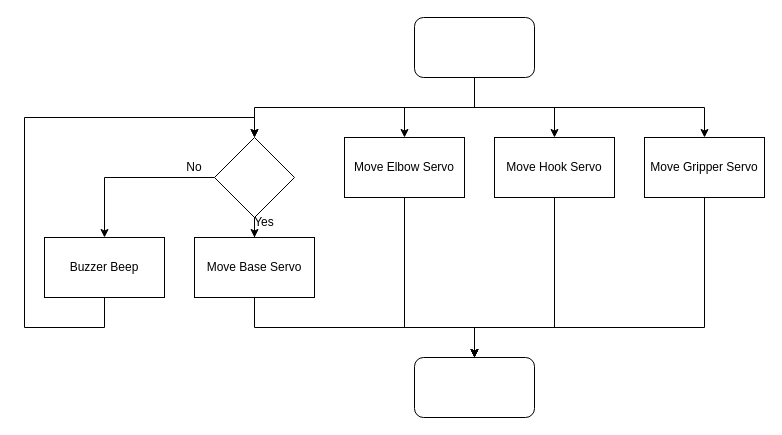
Some shapes in this 782 by 435 pixel diagram are drawn without their labels. Each missing label, with the centre of its shape:
"Base Semaphore" belongs at point 254,177.
"Finish" belongs at point 474,387.
"Start" belongs at point 474,47.
